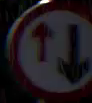Two way: (7, 3, 91, 100)
